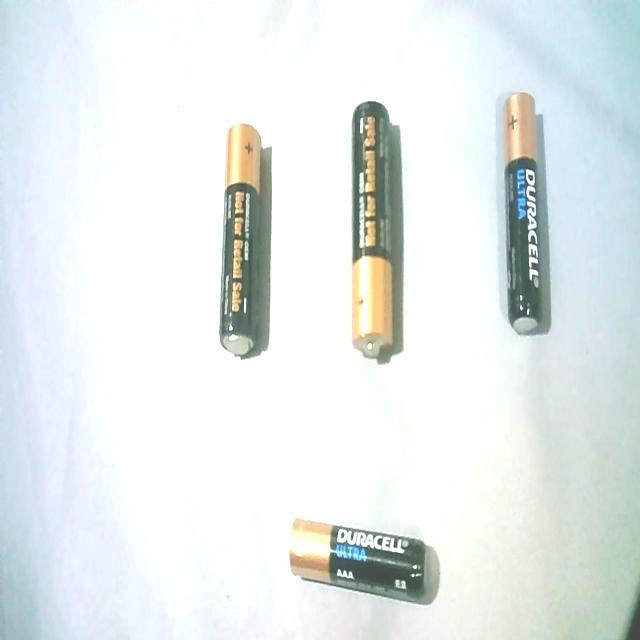AA: (346, 88, 404, 368), (210, 120, 270, 364)
AAA: (283, 508, 432, 608), (500, 85, 549, 339)
